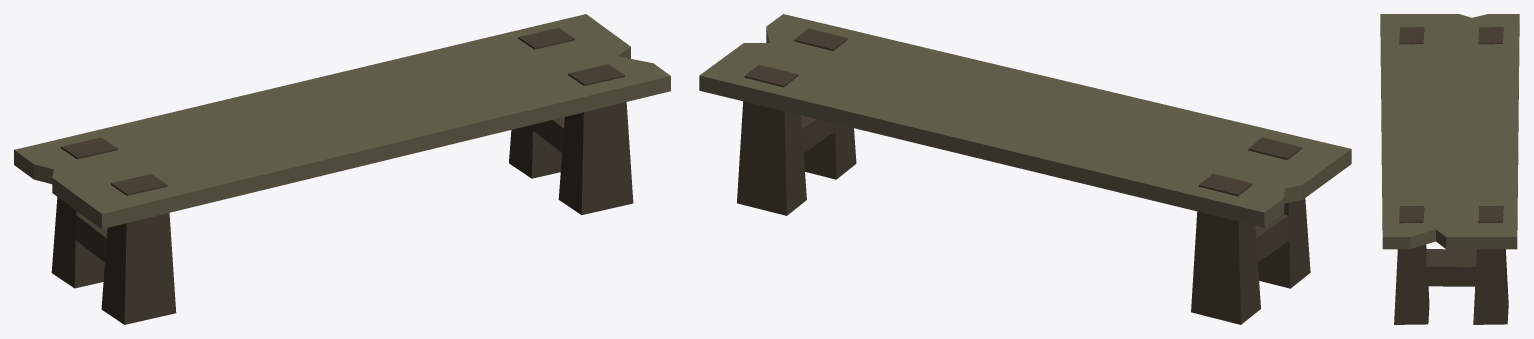
Rendered from Bench.fbx.
The picture shows the model from 3 angles, left to right: view 1: azimuth 30°, elevation 25°; view 2: azimuth 150°, elevation 25°; view 3: azimuth 270°, elevation 25°; orthographic projection. The views are drawn at different scales.
Visible parts, largest first — view 1: BENCH; view 2: BENCH; view 3: BENCH.
Part boxes in pixels (x1,y1,x2,y2): BENCH: (14, 14, 670, 324); BENCH: (699, 14, 1351, 324); BENCH: (1380, 14, 1519, 324).
Bounding box in the file's own units: 26.95 × 5.83 × 7.18.
